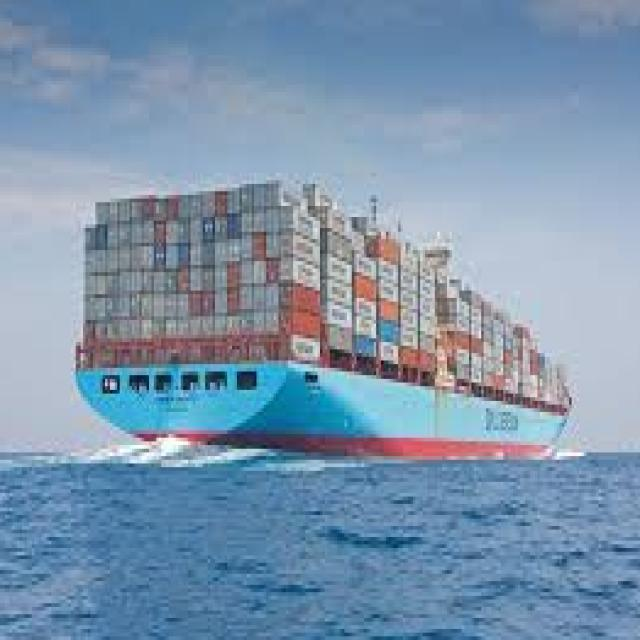cargoship: (71, 171, 572, 463)
